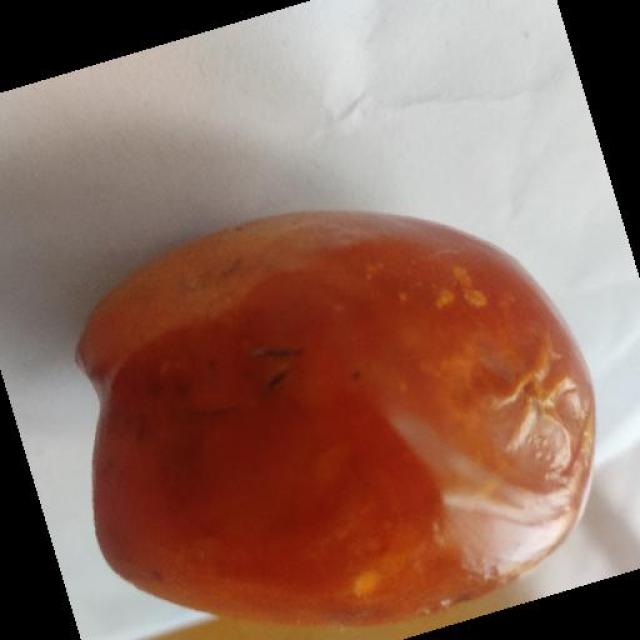Stale_tomato: (45, 245, 618, 588)
